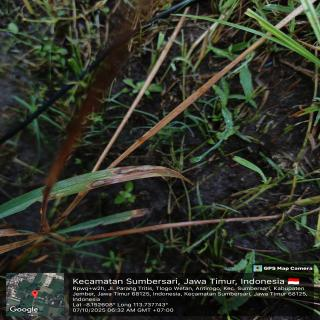Blast: (113, 164, 155, 175), (86, 178, 110, 189)
